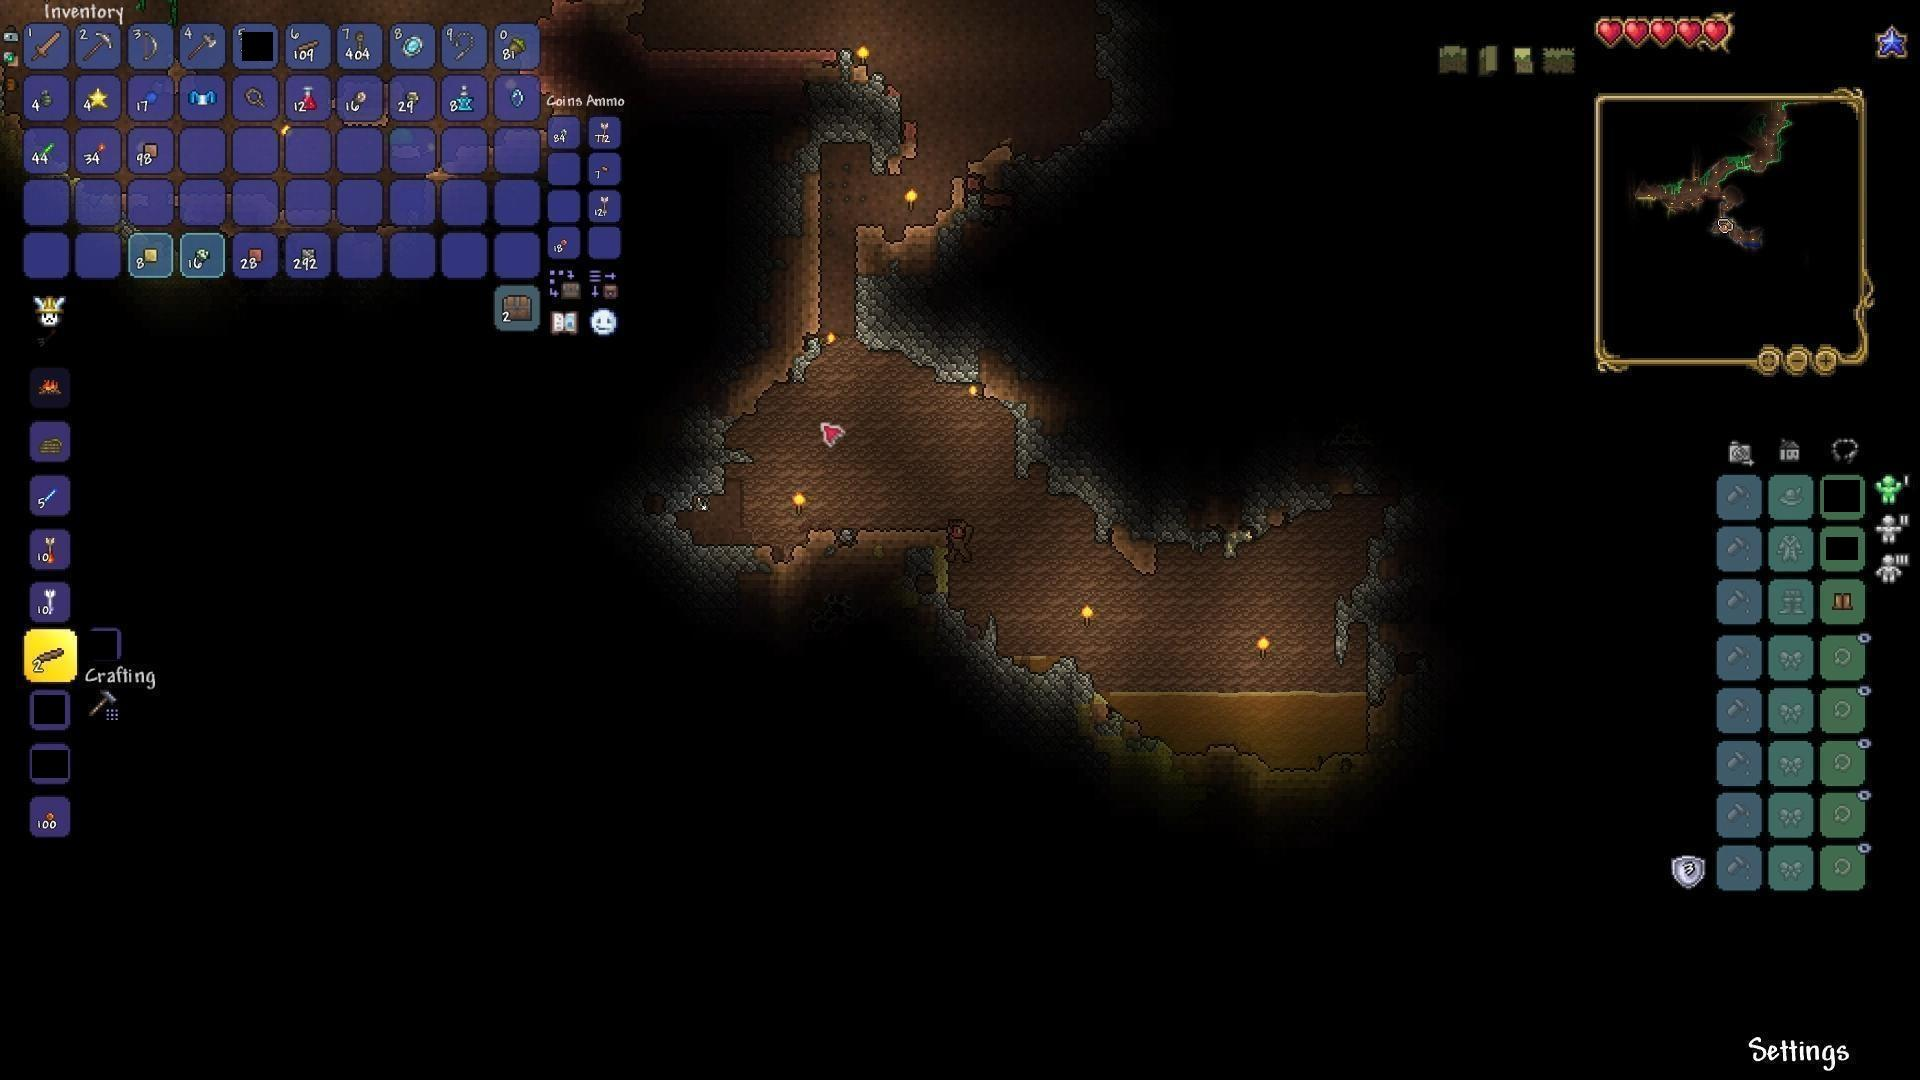legs: (1832, 587, 1857, 617)
